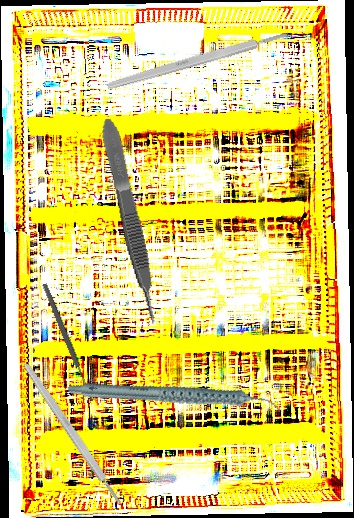Handpiece: (65, 340, 284, 456)
Scalpel Handle: (20, 360, 125, 508), (106, 29, 290, 92)
Surgical Spoon: (41, 282, 95, 403)
Tissue Forceps: (97, 116, 163, 327)
